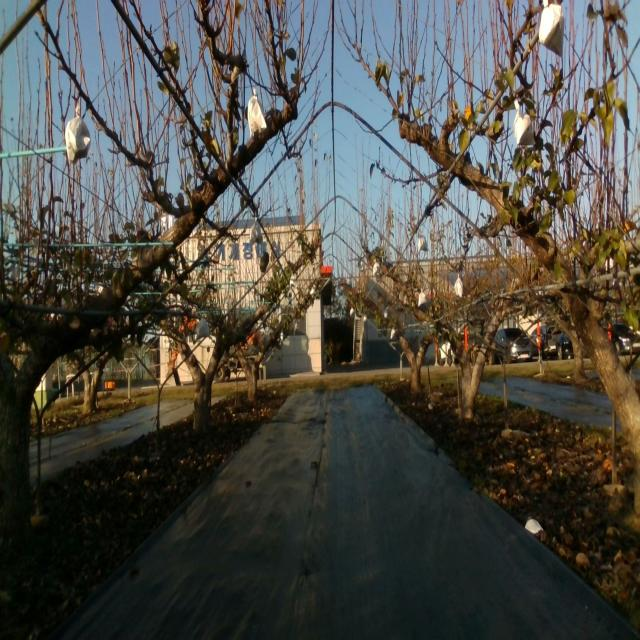pearbags: (538, 0, 567, 60), (63, 106, 92, 162), (513, 97, 536, 151), (247, 87, 267, 139), (249, 221, 263, 245), (196, 317, 209, 339)
